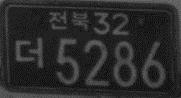2: (83, 38, 110, 88), (111, 12, 130, 35)
3: (93, 11, 110, 34)
5: (55, 37, 81, 86)
6: (141, 40, 166, 89)
8: (112, 40, 138, 88)
더: (14, 36, 44, 70)
전북_O: (48, 8, 89, 31)
